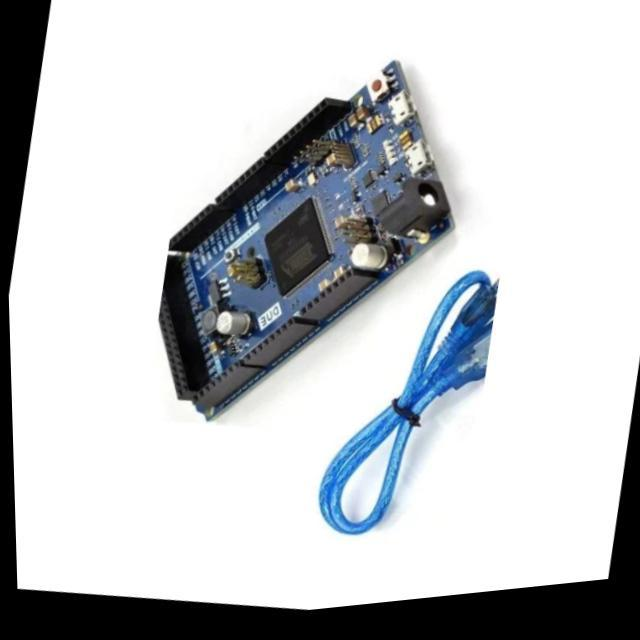Arduino-Due: (160, 62, 450, 418)
